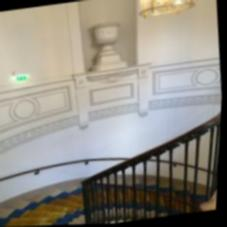Animal: (0, 157, 96, 227)
